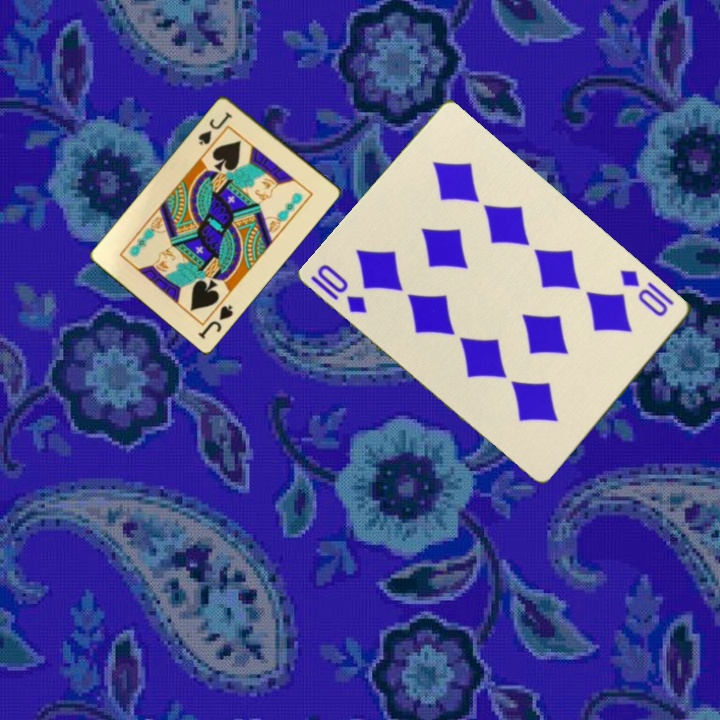10d: (308, 260, 371, 317), (616, 265, 678, 320)
Js: (194, 301, 236, 341), (194, 108, 235, 148)
